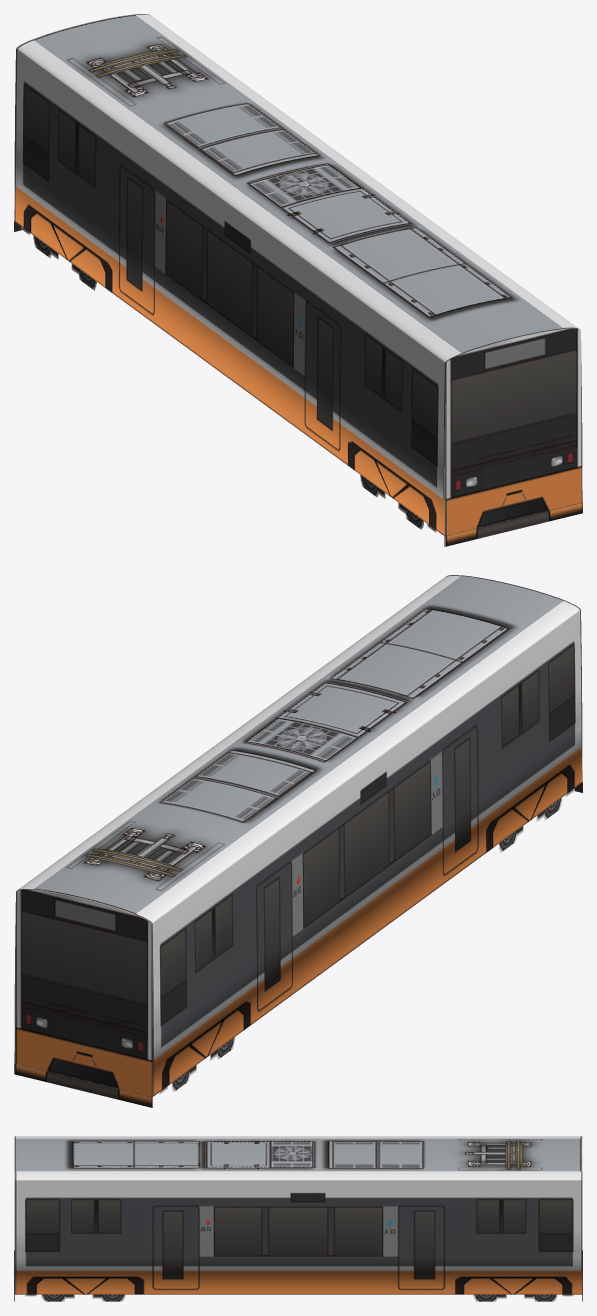
File: car1.glb
3 views of the same model, one above another, from view 1: azimuth 30°, elevation 25°; view 2: azimuth 150°, elevation 25°; view 3: azimuth 270°, elevation 25° (orthographic). The views are drawn at different scales.
Parts seen in each view (by area): view 1: iyotetu2100-car1; view 2: iyotetu2100-car1; view 3: iyotetu2100-car1.
Boxes of the visible parts, x1=… form: iyotetu2100-car1: x1=14, y1=14, x2=582, y2=546; iyotetu2100-car1: x1=14, y1=575, x2=582, y2=1107; iyotetu2100-car1: x1=14, y1=1136, x2=582, y2=1301.
Size of the model in its own units: 2.23 by 2.95 by 12.03.
6 materials, 5 textured.
